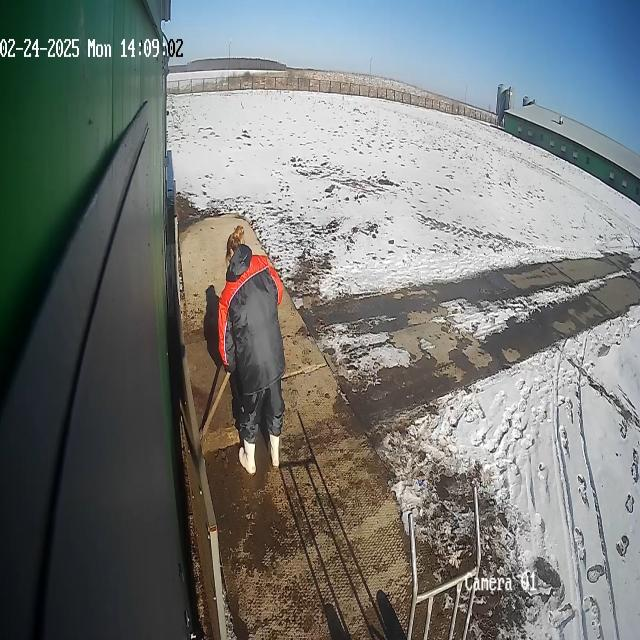Red uniform: (216, 244, 287, 448)
